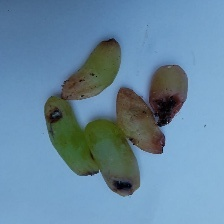grapes: (36, 16, 204, 212)
